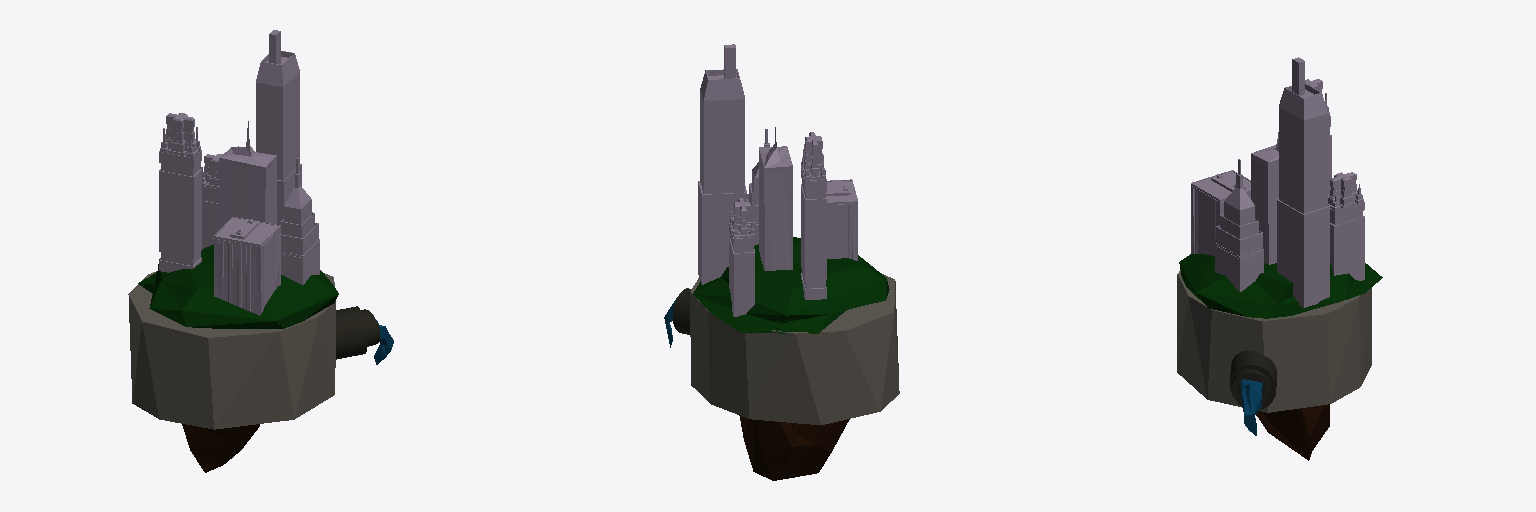
Rendered from smallcity.obj.
The picture shows the model from 3 angles: view 1: azimuth 30°, elevation 25°; view 2: azimuth 150°, elevation 25°; view 3: azimuth 270°, elevation 25°; orthographic projection.
Parts seen in each view (by area): view 1: Cylinder.001, Cube.002_Cube.003, Highrise_18, Highrise_8.001, Highrise_14.002, Highrise_6, Highrise_9.003, Icosphere.002_Icosphere.004, Highrise_18.002, BezierCurve.007_BezierCurve.006; view 2: Cylinder.001, Cube.002_Cube.003, Highrise_8.001, Icosphere.002_Icosphere.004, Highrise_6, Highrise_18, Highrise_18.002, Highrise_14.002, Highrise_9.003, BezierCurve.007_BezierCurve.006; view 3: Cylinder.001, Highrise_8.001, Cube.002_Cube.003, Highrise_9.003, Highrise_18.002, Highrise_14.002, Highrise_6, Icosphere.002_Icosphere.004, BezierCurve.007_BezierCurve.006, Plane.001_Plane.003, BezierCurve.008_BezierCurve.007.
Part boxes in pixels (x1,y1,x2,y2): Cylinder.001: (128, 271, 335, 429); Cube.002_Cube.003: (138, 244, 338, 328); Highrise_18: (159, 113, 201, 272); Highrise_8.001: (256, 30, 301, 224); Highrise_14.002: (213, 217, 280, 315); Highrise_6: (219, 121, 276, 228); Highrise_9.003: (280, 158, 319, 284); Icosphere.002_Icosphere.004: (182, 424, 259, 472); Highrise_18.002: (201, 154, 222, 248); BezierCurve.007_BezierCurve.006: (336, 306, 367, 359); Cylinder.001: (690, 273, 899, 424); Cube.002_Cube.003: (693, 237, 889, 333); Highrise_8.001: (698, 44, 746, 284); Icosphere.002_Icosphere.004: (739, 415, 849, 480); Highrise_6: (759, 127, 792, 270); Highrise_18: (801, 132, 826, 299); Highrise_18.002: (729, 198, 754, 316); Highrise_14.002: (826, 179, 857, 260); Highrise_9.003: (747, 129, 769, 244); BezierCurve.007_BezierCurve.006: (673, 289, 690, 334); Cylinder.001: (1177, 270, 1371, 412); Highrise_8.001: (1277, 57, 1329, 307); Cube.002_Cube.003: (1179, 254, 1382, 318); Highrise_9.003: (1215, 159, 1263, 291); Highrise_18.002: (1328, 172, 1364, 280); Highrise_14.002: (1191, 170, 1250, 255); Highrise_6: (1251, 132, 1278, 264); Icosphere.002_Icosphere.004: (1256, 404, 1329, 460); BezierCurve.007_BezierCurve.006: (1230, 350, 1276, 409); Plane.001_Plane.003: (1241, 379, 1262, 435); BezierCurve.008_BezierCurve.007: (1232, 369, 1270, 403).
Size of the model in its own units: 1.04 by 1.73 by 0.77.